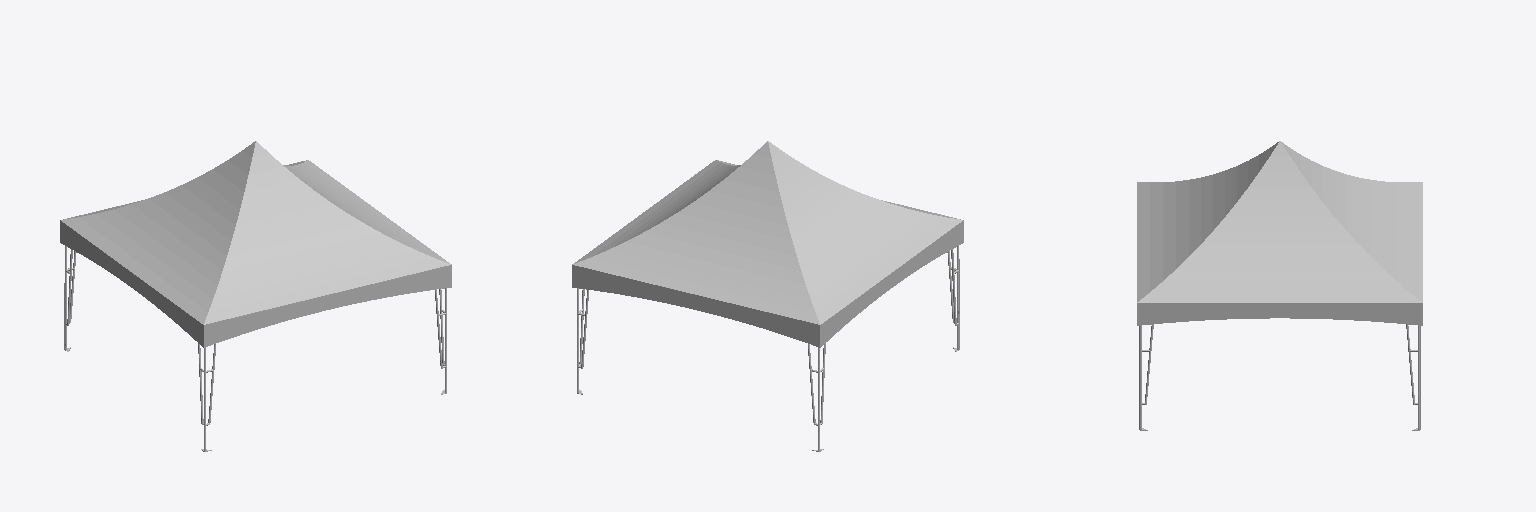
Rendered from Tent.obj.
3 renders of one model, left to right at view 1: azimuth 30°, elevation 25°; view 2: azimuth 150°, elevation 25°; view 3: azimuth 270°, elevation 25°, orthographic.
Visible parts, largest first — view 1: Object.1; view 2: Object.1; view 3: Object.1.
Part boxes in pixels (left/top/right/bottom): Object.1: left=60, top=141, right=451, bottom=451; Object.1: left=572, top=141, right=963, bottom=451; Object.1: left=1137, top=141, right=1422, bottom=430.
Size of the model in its own units: 201 by 178 by 201.